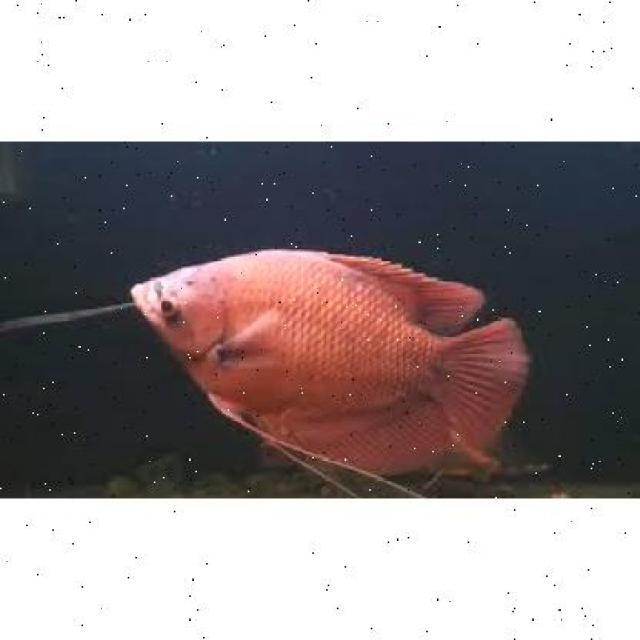gurame: (128, 244, 521, 466)
